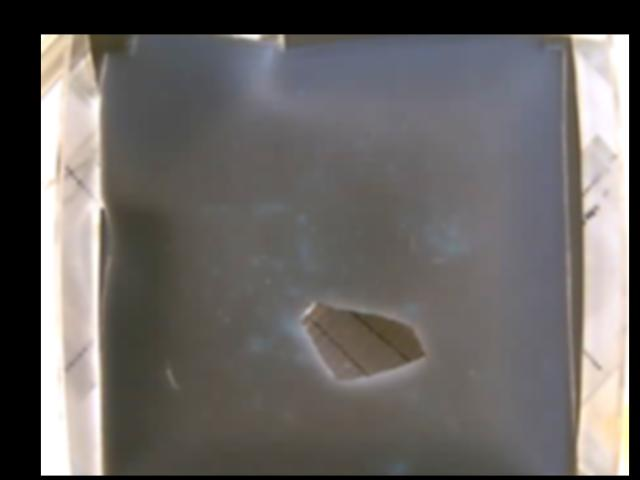China: (300, 297, 424, 381)
